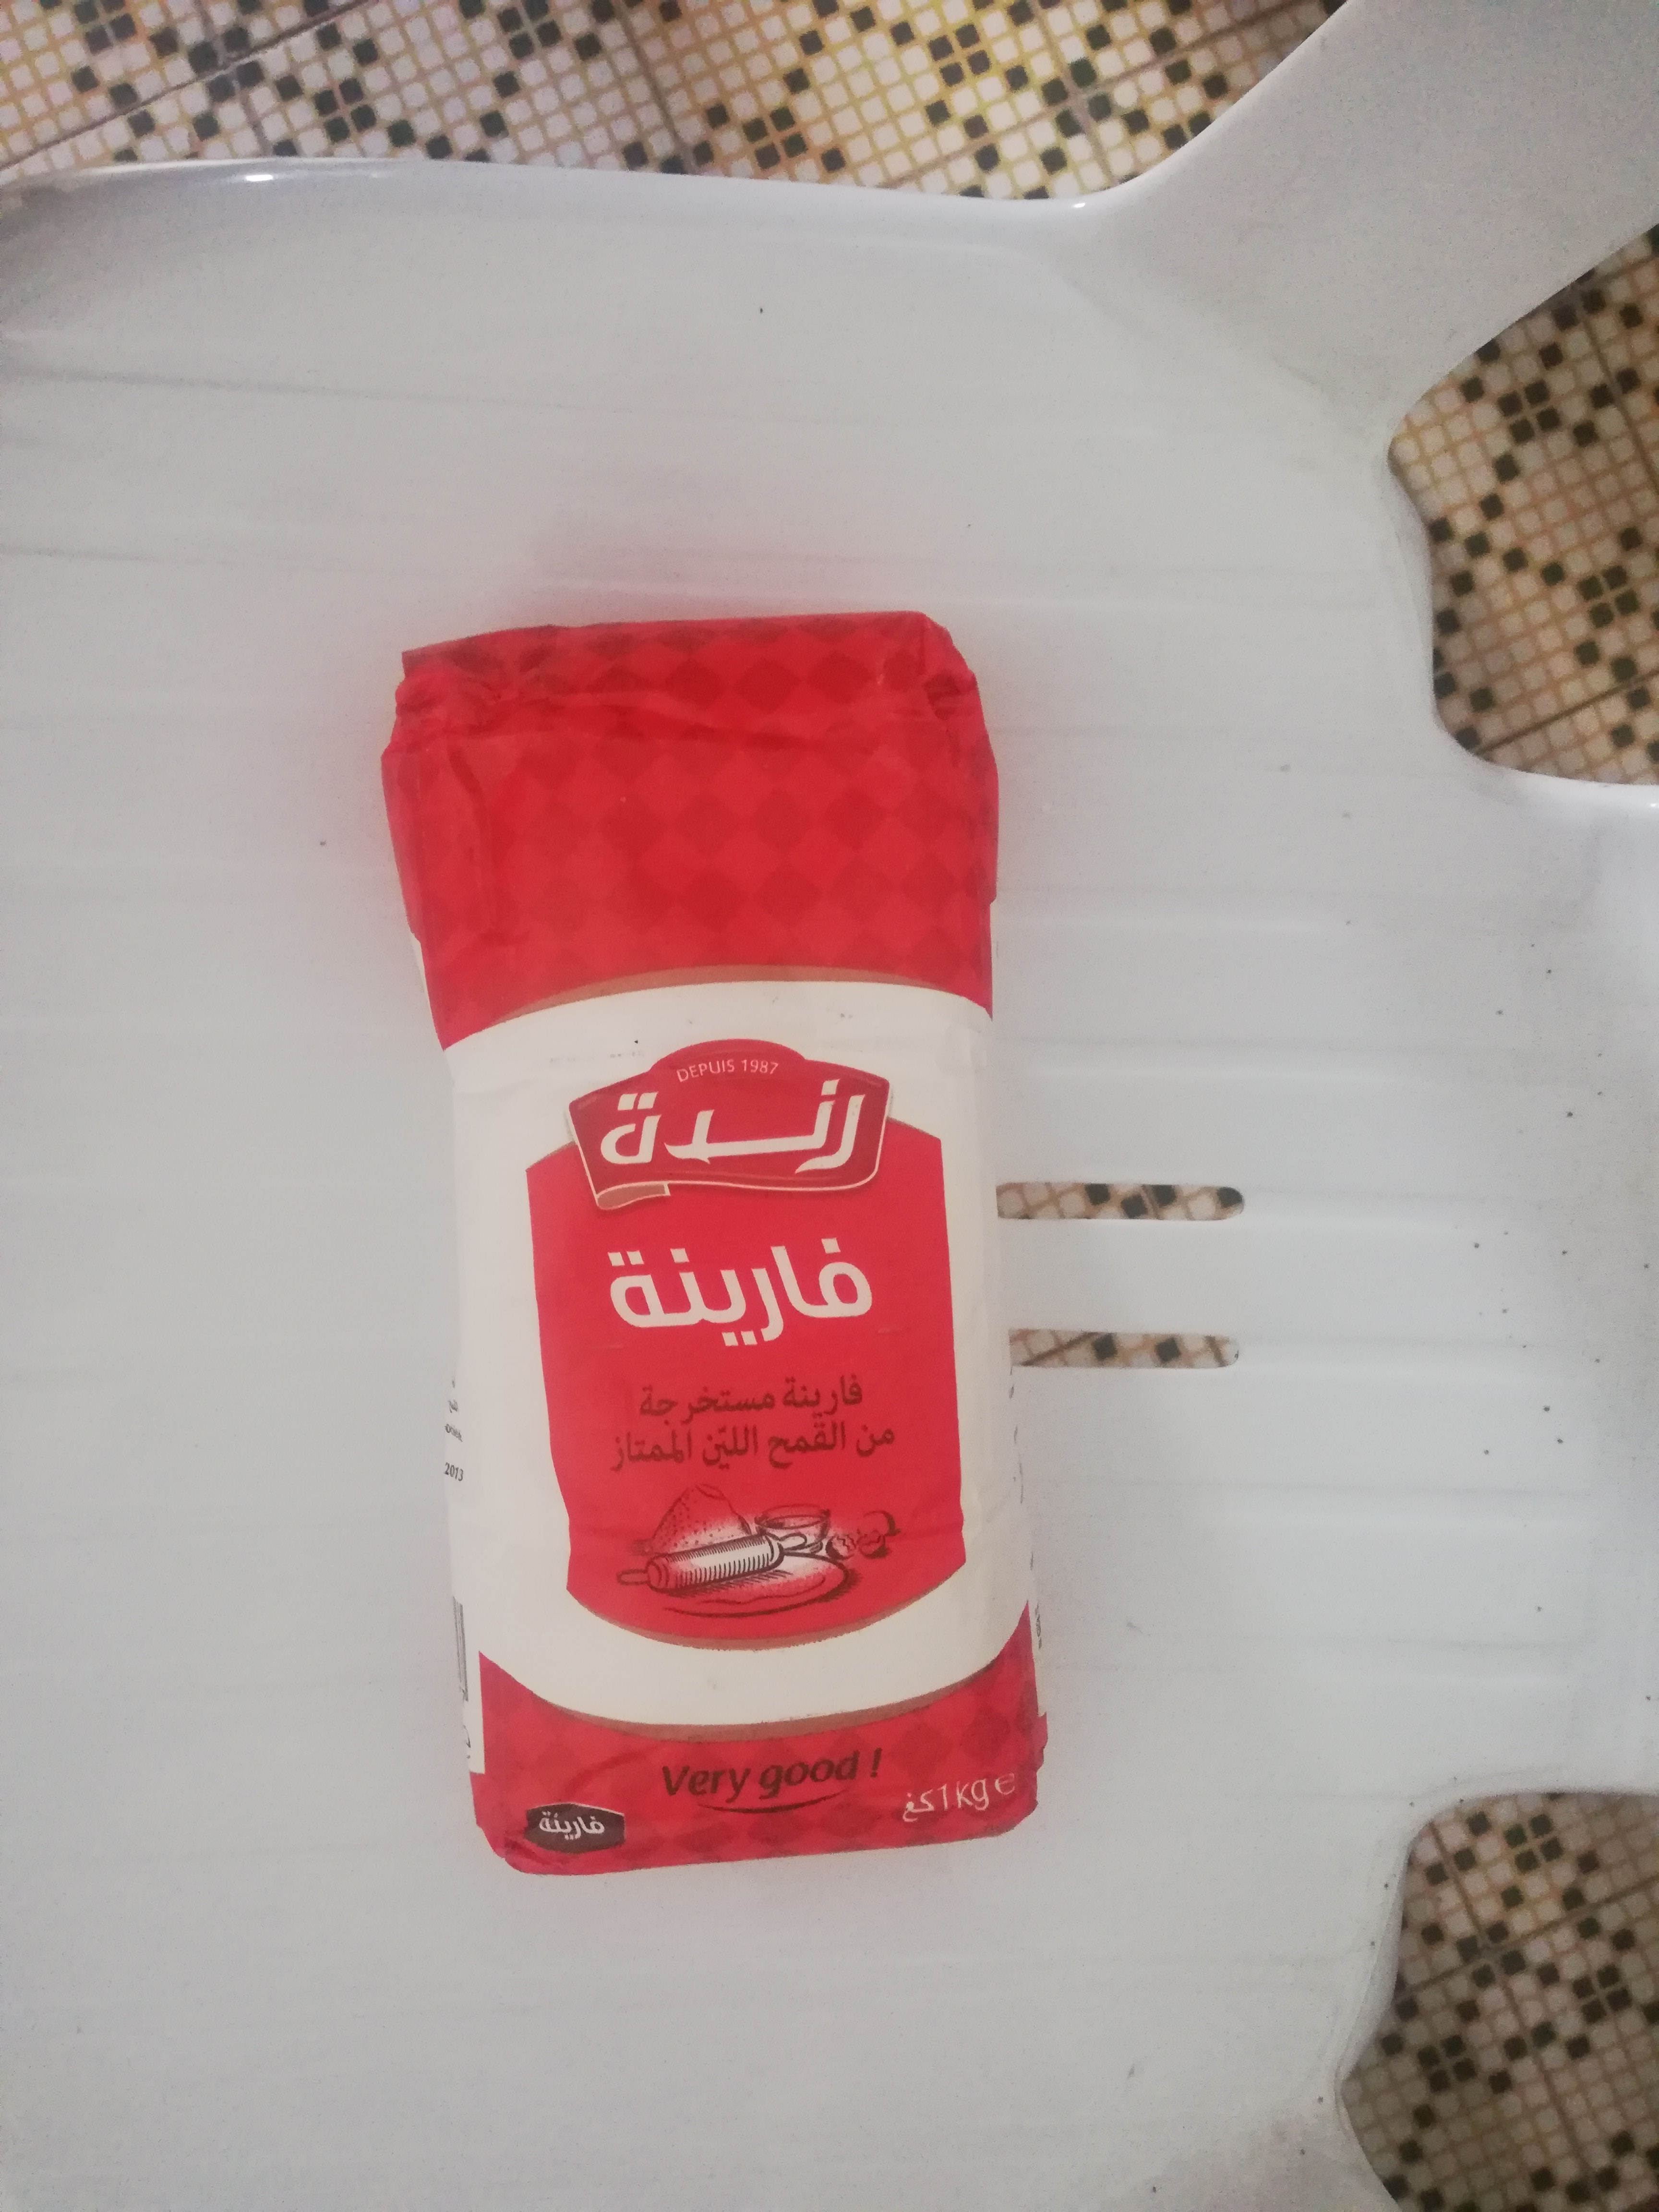Farine Randa: (387, 611, 1056, 1878)
